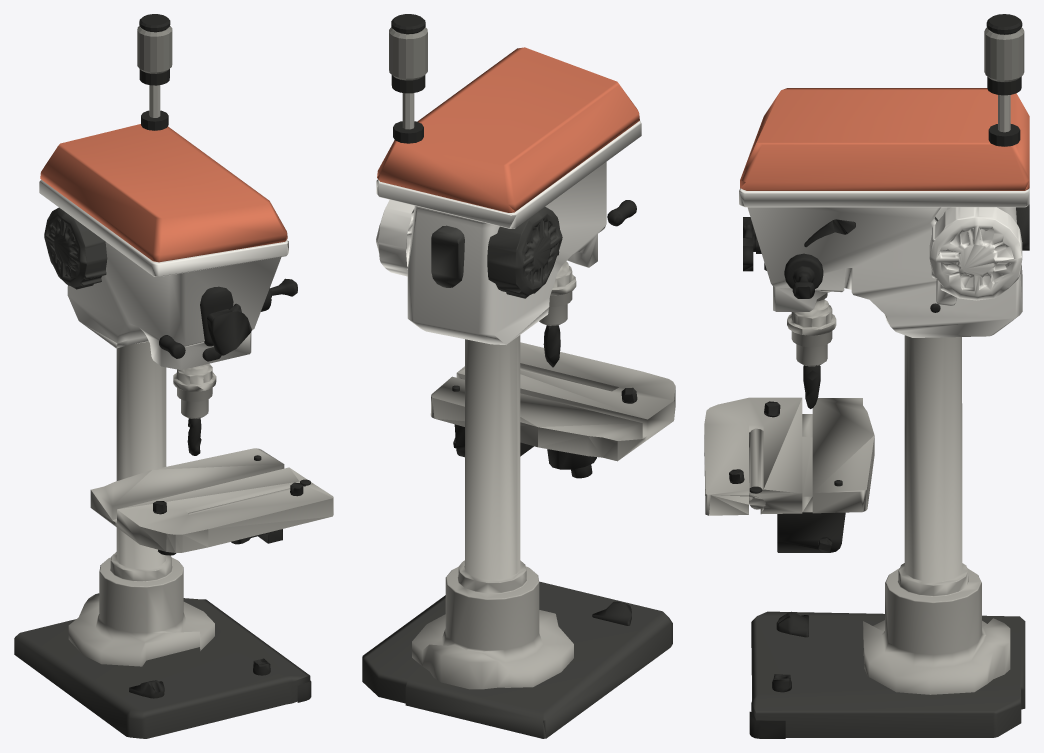
The model's file is drill_press.glb.
The picture shows the model from 3 angles, left to right: view 1: azimuth 30°, elevation 25°; view 2: azimuth 150°, elevation 25°; view 3: azimuth 270°, elevation 25°; orthographic projection. The views are drawn at different scales.
Visible parts, largest first — view 1: drill_press_parts, spindle_parts; view 2: drill_press_parts, spindle_parts; view 3: drill_press_parts, spindle_parts.
Boxes of the visible parts, x1,y1,x2,y2 form: drill_press_parts: (14,14,333,738); spindle_parts: (173,363,216,455); drill_press_parts: (362,14,675,738); spindle_parts: (539,261,576,367); drill_press_parts: (704,14,1029,738); spindle_parts: (787,293,836,408).
Size of the model in its own units: 0.8393 by 2.66 by 1.13.
